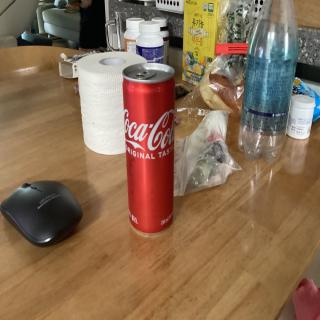cocacola: (117, 59, 184, 241)
